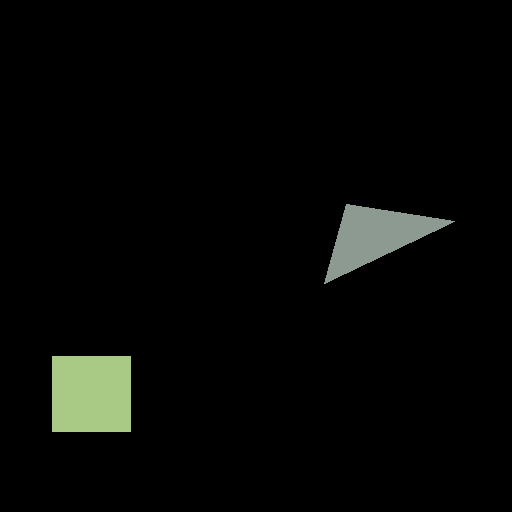square: (52, 356, 130, 431)
triangle: (324, 204, 454, 283)
